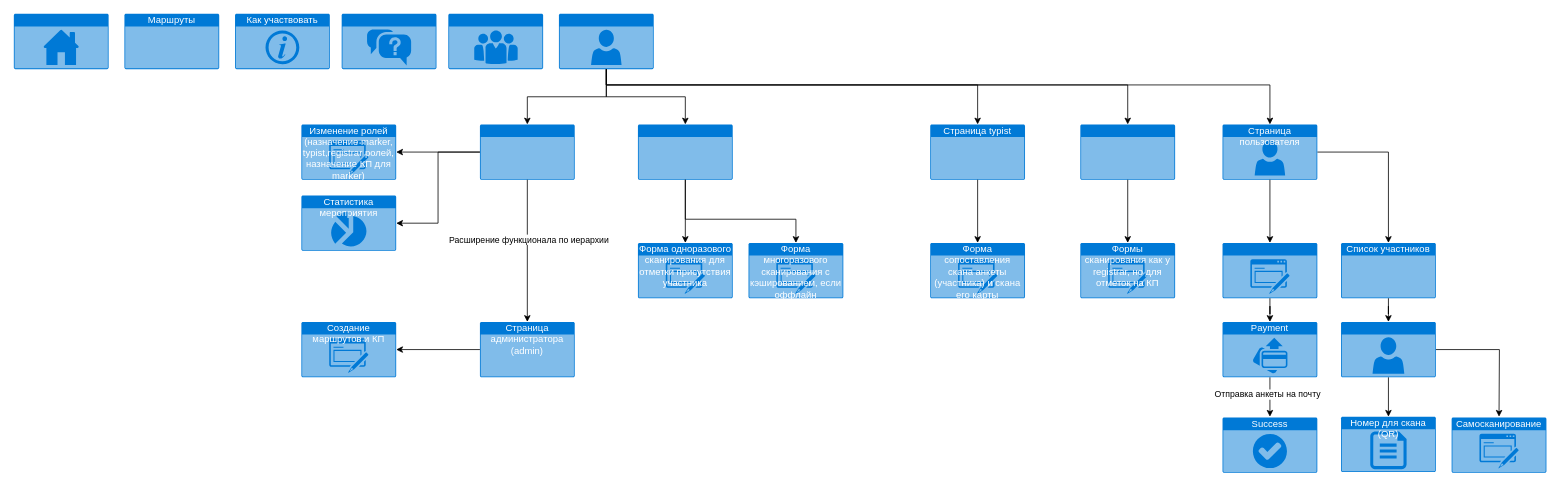
This 1559x486 diagram has some shape labels left out. The shapes that lost their labels are listed below. From the top down, each one's box as (x1, y1, x2, y2) in pixels, then its label:
(13, 13, 108, 69): Главная
(341, 13, 436, 69): Вопросы
(448, 13, 543, 69): О прогулке
(559, 13, 653, 69): Личный кабинет
(480, 124, 574, 179): Страница организатора (organizer)
(638, 124, 732, 179): Страница registrar
(1080, 124, 1175, 179): Страница marker
(1222, 243, 1317, 298): Форма добавления участников (заполнение анкеты)
(1341, 322, 1435, 377): Страница участника
